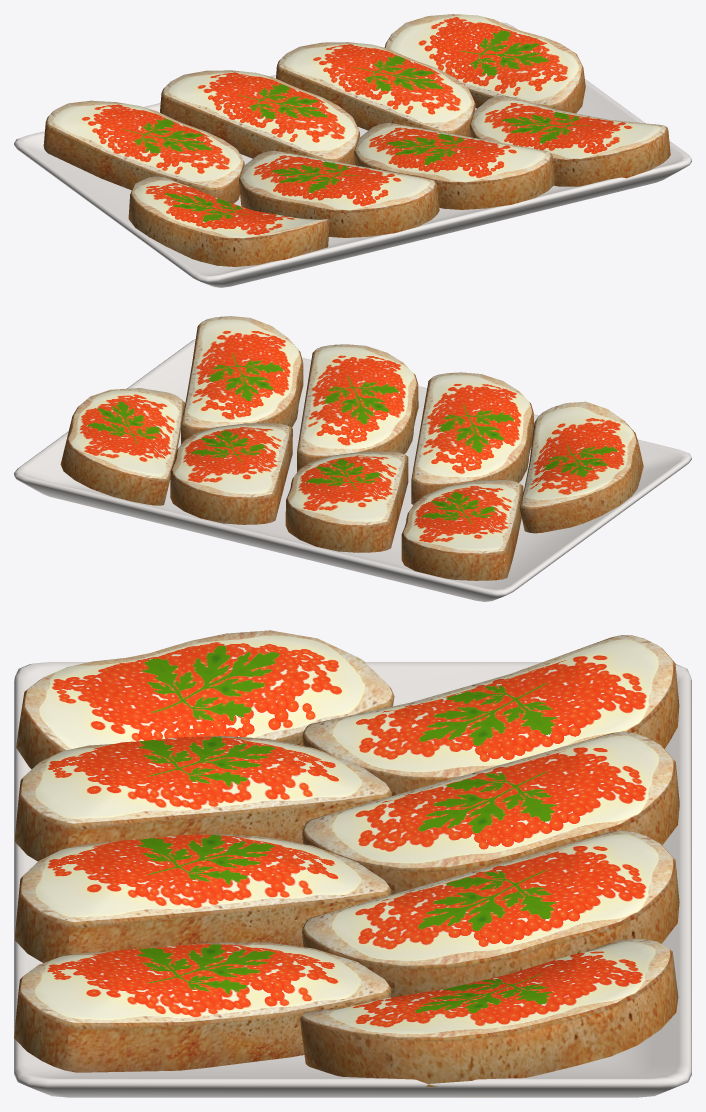
Rendered from BuffetSnacks03_4.FBX.
3 renders of one model, top to bottom at view 1: azimuth 30°, elevation 25°; view 2: azimuth 150°, elevation 25°; view 3: azimuth 270°, elevation 25°, orthographic. The views are drawn at different scales.
Parts seen in each view (by area): view 1: BuffetSnacks03_4; view 2: BuffetSnacks03_4; view 3: BuffetSnacks03_4.
Part boxes in pixels (<box>): BuffetSnacks03_4: <box>14,14,691,287</box>; BuffetSnacks03_4: <box>14,316,691,601</box>; BuffetSnacks03_4: <box>14,630,691,1097</box>.
Size of what is drawn, in the model's own units: 0.6003 by 0.0623 by 0.4079.
